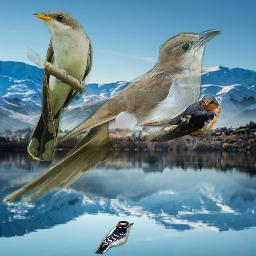Cuckoo: (1, 29, 222, 206), (27, 11, 93, 161)
Swallow: (134, 94, 221, 142)
Woodpecker: (94, 221, 134, 254)
